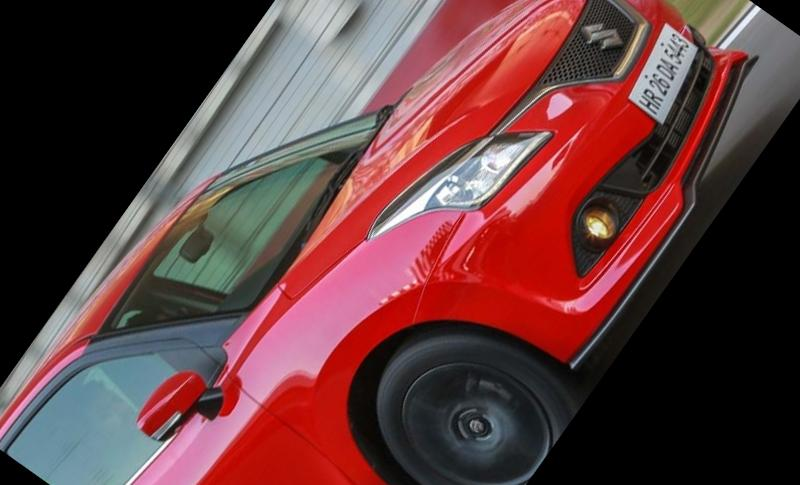plate: (615, 12, 720, 131)
